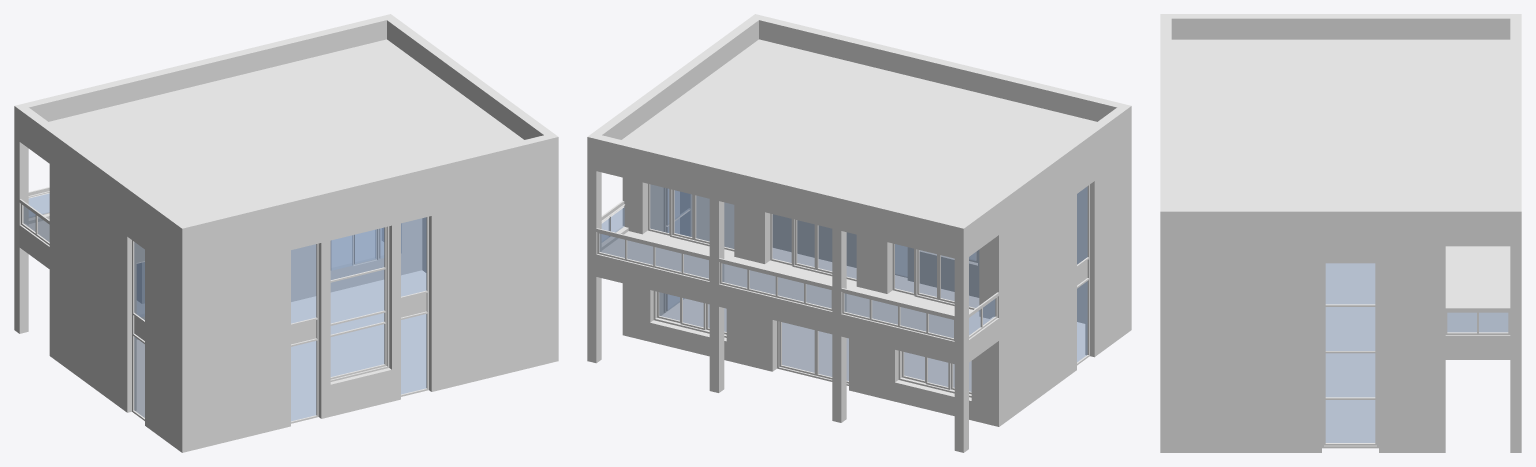
3 renders of one model, left to right at view 1: azimuth 30°, elevation 25°; view 2: azimuth 150°, elevation 25°; view 3: azimuth 270°, elevation 25°, orthographic. The views are drawn at different scales.
Visible parts, largest first — view 1: 4861, 4871, Component#2 (×3), Component#4, C1, W4, 5083, Component#1; view 2: 4871, 4861, 5083, C1 (×4), W5 (×3), g (×3), W4 (×2), Door, Component#2, Hand_1 (×3), Component#3, Component#1 (×2); view 3: 4871, 4861, Component#3, 5083, C1, Component#1.
Boxes of the visible parts, x1,y1,x2,y2 form: 4861: (49,164,558,452); 4871: (14,14,558,260); Component#2 (×3): (132,216,428,423); Component#4: (330,226,389,381); C1: (14,125,28,333); W4: (330,223,403,272); 5083: (19,213,49,268); Component#1: (21,204,49,245); 4871: (587,14,1131,258); 4861: (622,138,1131,426); 5083: (596,227,998,363); C1 (×4): (587,156,968,452); W5 (×3): (648,184,979,309); g (×3): (597,232,954,340); W4 (×2): (653,291,971,397); Door: (777,321,848,385); Component#2: (1077,184,1089,365); Hand_1 (×3): (596,228,954,319); Component#3: (662,187,690,314); Component#1 (×2): (601,204,997,338); 4871: (1160,14,1521,246); 4861: (1160,246,1445,452); Component#3: (1322,263,1378,448); 5083: (1445,246,1510,359); C1: (1510,232,1521,452); Component#1: (1445,311,1510,334).
Size of the model in its own units: 12.3 by 7 by 9.5.
